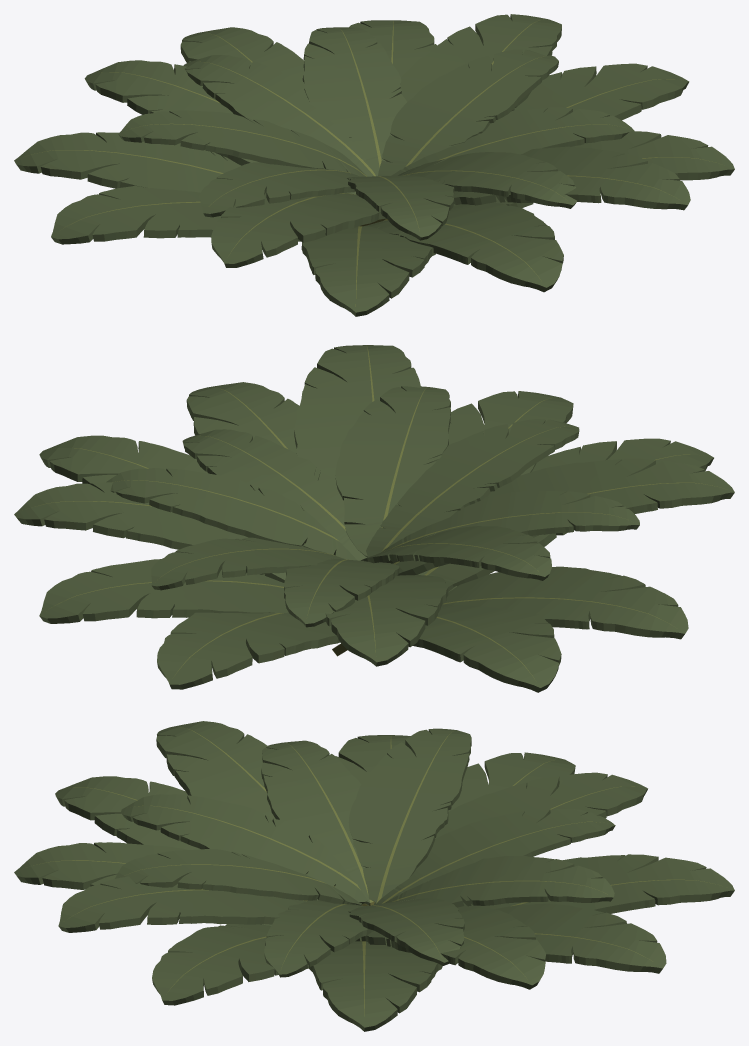
Rendered from leaf2.fbx.
3 renders of one model, top to bottom at view 1: azimuth 30°, elevation 25°; view 2: azimuth 150°, elevation 25°; view 3: azimuth 270°, elevation 25°, orthographic. The views are drawn at different scales.
Parts seen in each view (by area): view 1: Plane.014, Plane.016, Plane.004, Plane.003, Plane.019, Plane.007, Plane.012, Plane.011, Plane, Plane.009, Plane.001, Plane.018 (+8 smaller); view 2: Plane.013, Plane, Plane.017, Plane.006, Plane.014, Plane.009, Plane.002, Plane.004, Plane.011, Plane.018, Plane.010, Plane.015 (+8 smaller); view 3: Plane.019, Plane.017, Plane.015, Plane.009, Plane.016, Plane.012, Plane.001, Plane.013, Plane.011, Plane.006, Plane.005, Plane.002 (+8 smaller).
Boxes of the visible parts, <box> form: Plane.014: <box>378,49,558,176</box>; Plane.016: <box>302,27,406,176</box>; Plane.004: <box>14,132,241,192</box>; Plane.003: <box>364,202,563,292</box>; Plane.019: <box>118,110,366,176</box>; Plane.007: <box>301,226,435,316</box>; Plane.012: <box>183,55,375,176</box>; Plane.011: <box>211,192,387,267</box>; Plane: <box>51,186,300,244</box>; Plane.009: <box>360,146,690,226</box>; Plane.001: <box>514,63,689,120</box>; Plane.018: <box>391,107,634,175</box>; Plane.013: <box>335,386,450,557</box>; Plane: <box>332,566,688,656</box>; Plane.017: <box>366,419,579,557</box>; Plane.006: <box>39,559,288,623</box>; Plane.014: <box>106,468,356,560</box>; Plane.009: <box>294,345,421,479</box>; Plane.002: <box>157,612,340,689</box>; Plane.004: <box>413,605,561,692</box>; Plane.011: <box>392,458,734,575</box>; Plane.018: <box>182,429,366,560</box>; Plane.010: <box>14,482,304,549</box>; Plane.015: <box>382,490,639,563</box>; Plane.019: <box>348,728,471,903</box>; Plane.017: <box>121,794,367,904</box>; Plane.015: <box>261,740,374,905</box>; Plane.009: <box>58,876,307,932</box>; Plane.016: <box>385,856,614,907</box>; Plane.012: <box>367,809,615,905</box>; Plane.001: <box>309,941,442,1031</box>; Plane.013: <box>115,849,367,905</box>; Plane.011: <box>156,721,317,900</box>; Plane.006: <box>494,903,666,973</box>; Plane.005: <box>152,924,308,1005</box>; Plane.002: <box>463,854,734,913</box>.
Size of the model in its own units: 761 by 190 by 760.
